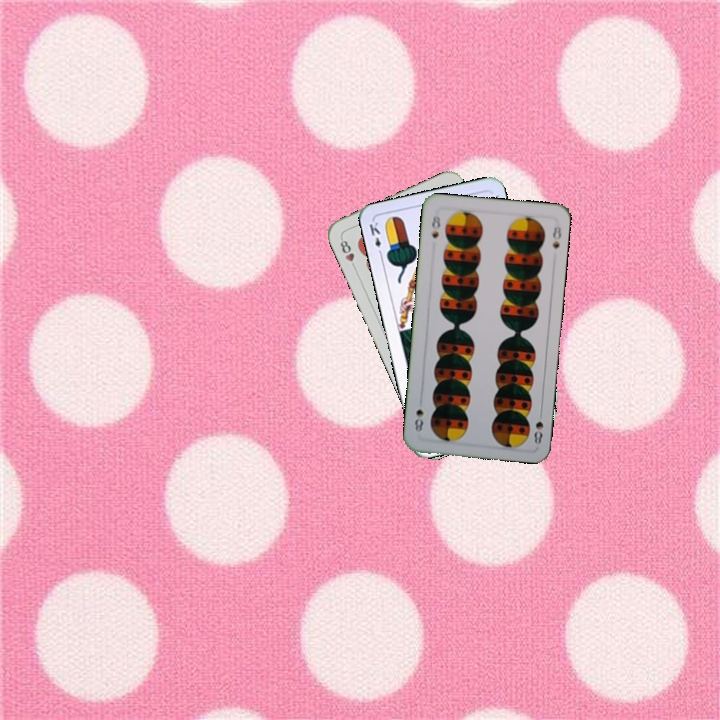EK: (365, 218, 385, 259)
H8: (336, 234, 359, 272)
S8: (530, 406, 546, 447), (428, 211, 443, 241)
